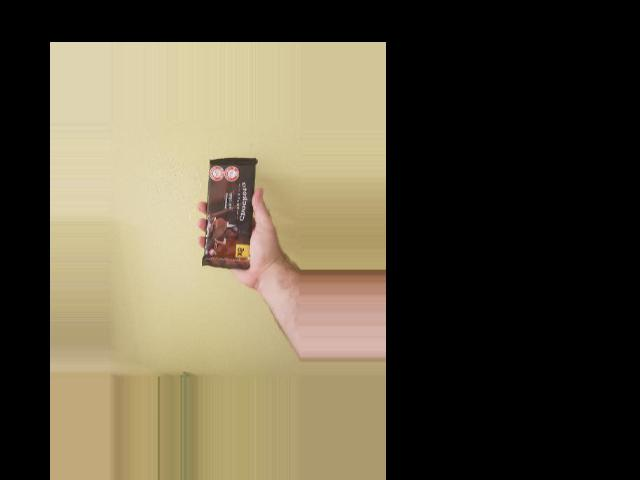chocolate: (201, 158, 259, 269)
